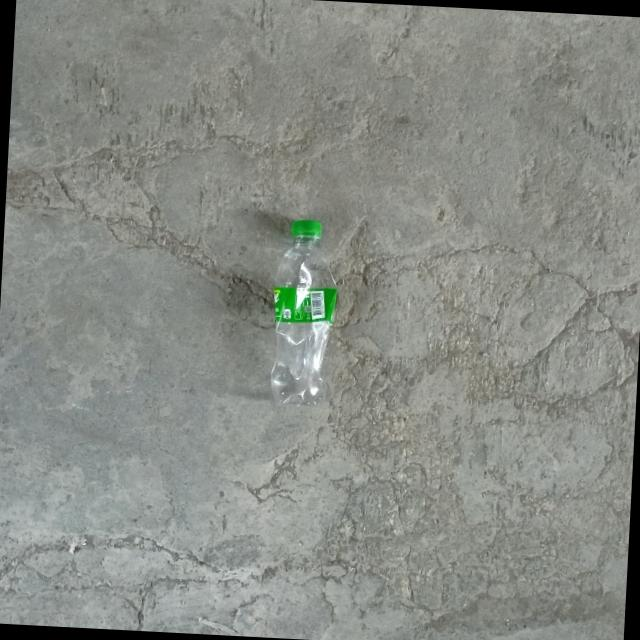Bottle: (271, 219, 337, 404)
